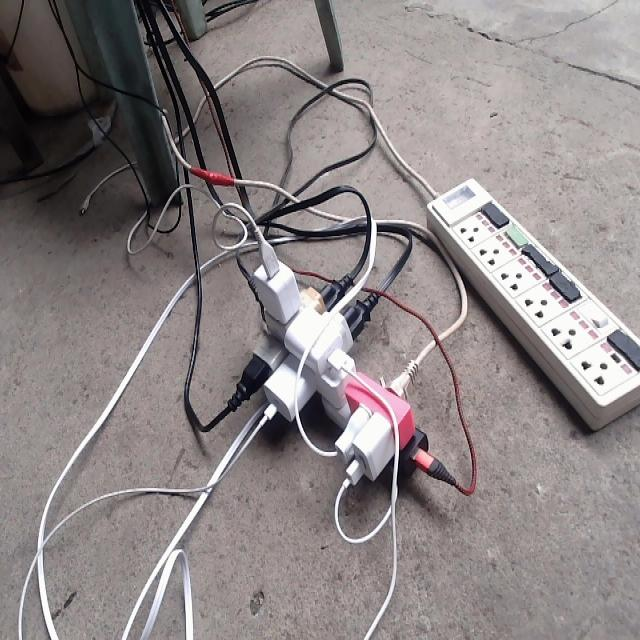-: (223, 223, 459, 489)
